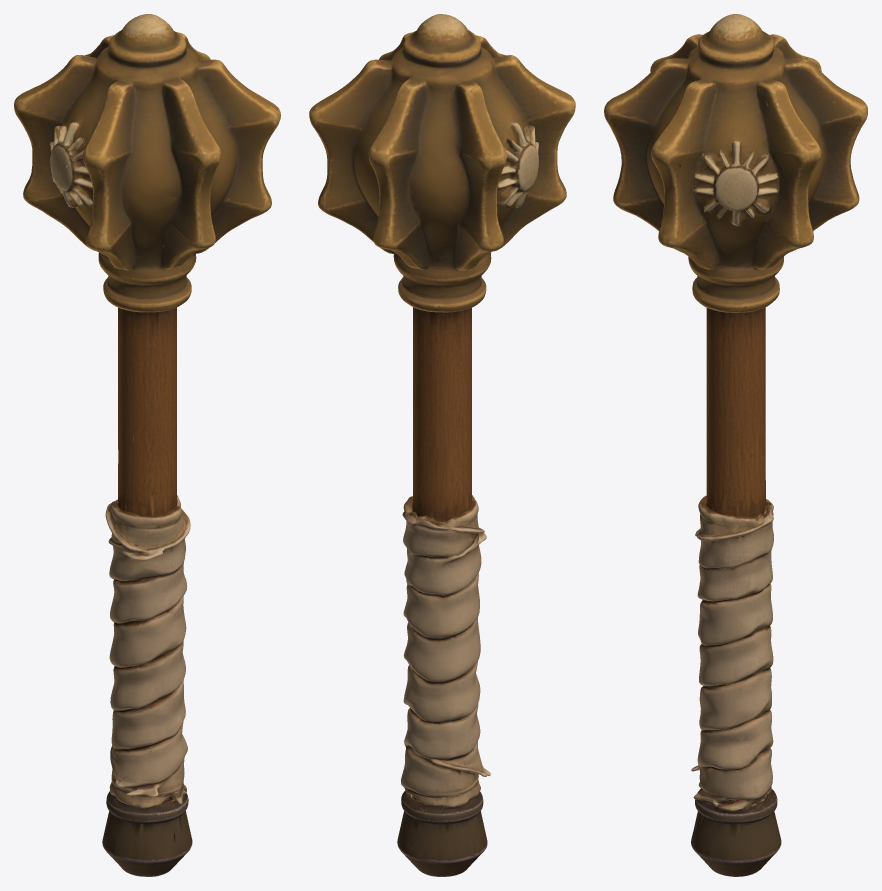
File: mace_sun.glb
3 renders of one model, left to right at view 1: azimuth 30°, elevation 25°; view 2: azimuth 150°, elevation 25°; view 3: azimuth 270°, elevation 25°, orthographic.
Parts seen in each view (by area): view 1: weapon; view 2: weapon; view 3: weapon.
Boxes of the visible parts, left/top/right/bottom form: weapon: left=14, top=14, right=280, bottom=876; weapon: left=309, top=14, right=575, bottom=876; weapon: left=604, top=14, right=867, bottom=876.
Size of the model in its own units: 0.2399 by 1 by 0.2813.
1 material, 1 textured.
